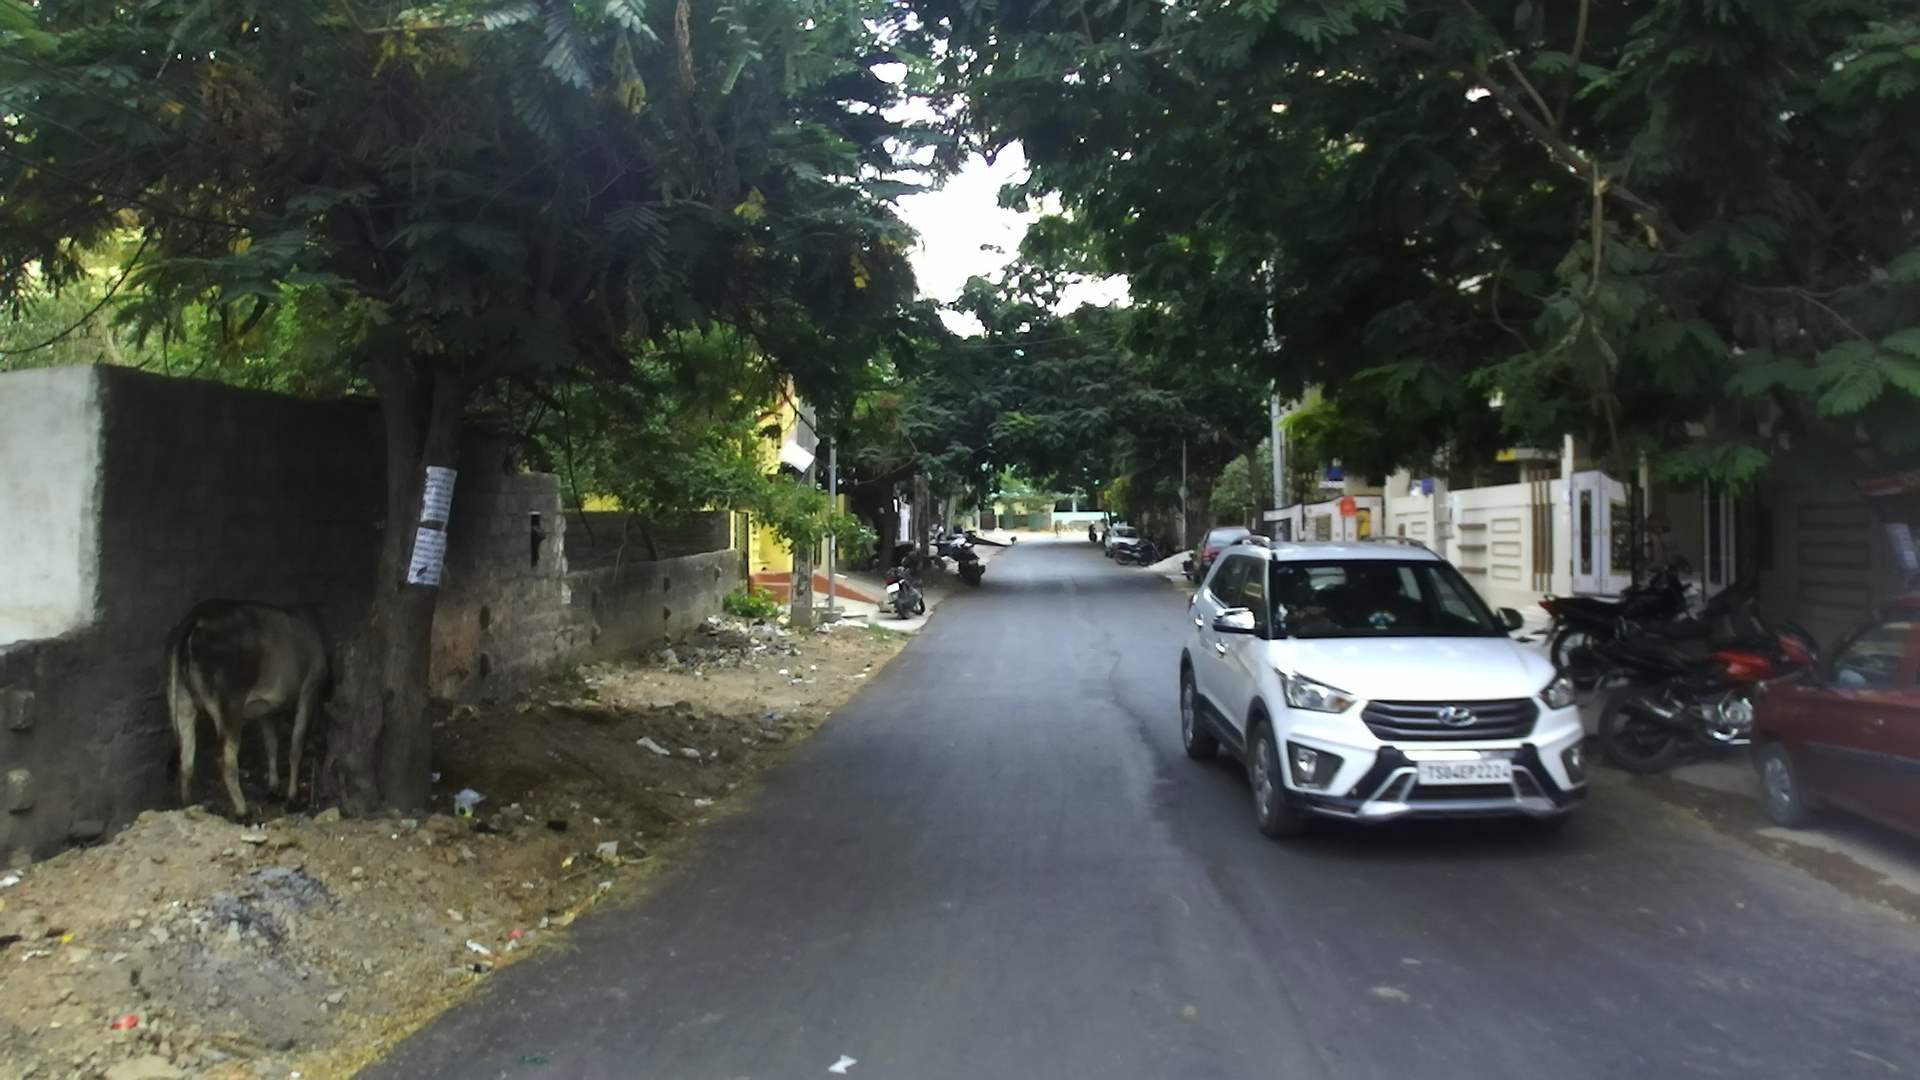vehicle: (1175, 535, 1590, 836), (1540, 574, 1821, 770), (1747, 616, 1919, 840), (1104, 524, 1149, 560)
